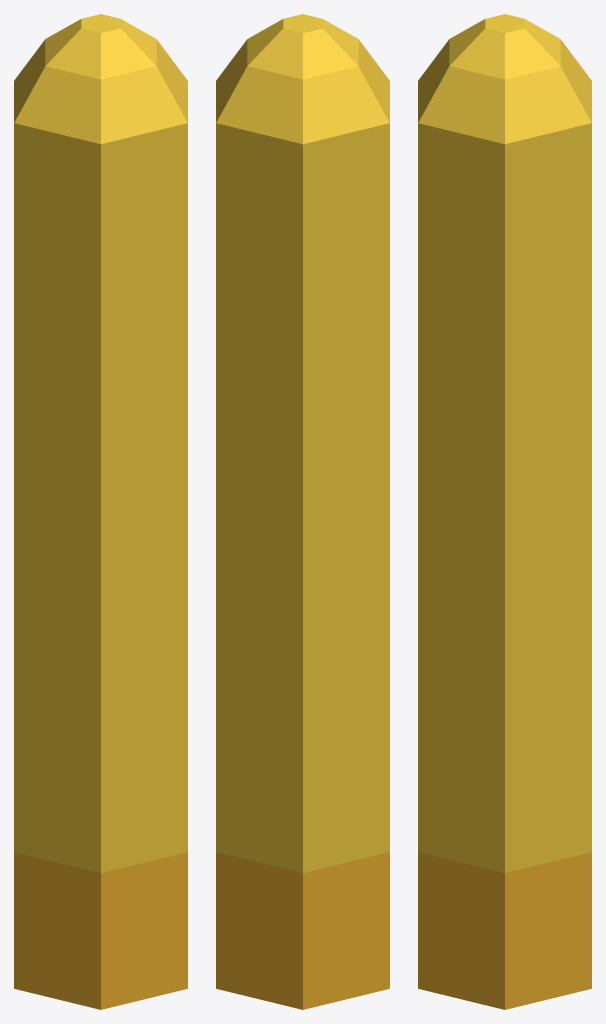
Rendered from Fence.fbx.
3 views of the same model, side by side, from view 1: azimuth 30°, elevation 25°; view 2: azimuth 150°, elevation 25°; view 3: azimuth 270°, elevation 25° (orthographic).
Parts seen in each view (by area): view 1: Fence; view 2: Fence; view 3: Fence.
Part boxes in pixels (x1=…): Fence: x1=14, y1=14, x2=187, y2=1009; Fence: x1=216, y1=14, x2=389, y2=1009; Fence: x1=418, y1=14, x2=591, y2=1009.
Bounding box in the file's own units: 0.2722 × 1.41 × 0.2357.
1 material, 1 textured.
